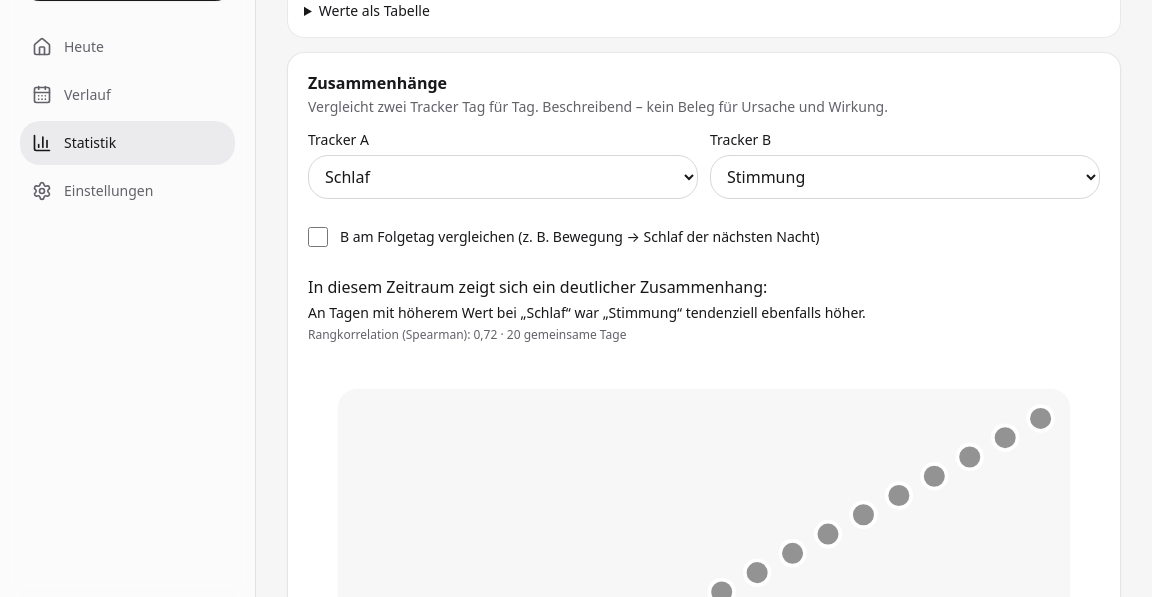
Test: statistics page › describes correlations without claiming causation
(page scrolled)
expect the text "In diesem Zeitraum zeigt sich ein deutlicher Zusammenhang:" is shown: met, box x1=308 y1=276 x2=767 y2=298
expect the text "An Tagen mit höherem Wert bei „Schlaf“ war „Stimmung“ tendenziell ebenfalls höher." is shown: met, box x1=308 y1=303 x2=866 y2=322
Click the checkbox labelled "B am Folgetag" at (318, 237), box x1=308 y1=227 x2=328 y2=247
(page scrolled)
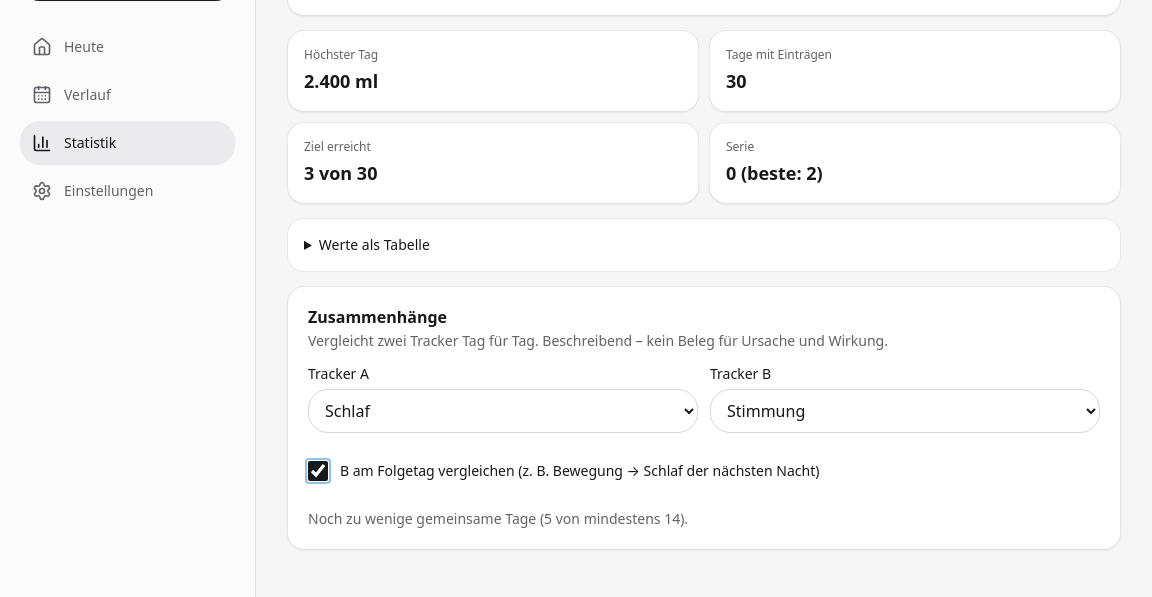
expect the text "Noch zu wenige gemeinsame Tage (5 von mindestens 14)." is shown: met, box x1=308 y1=509 x2=688 y2=528
